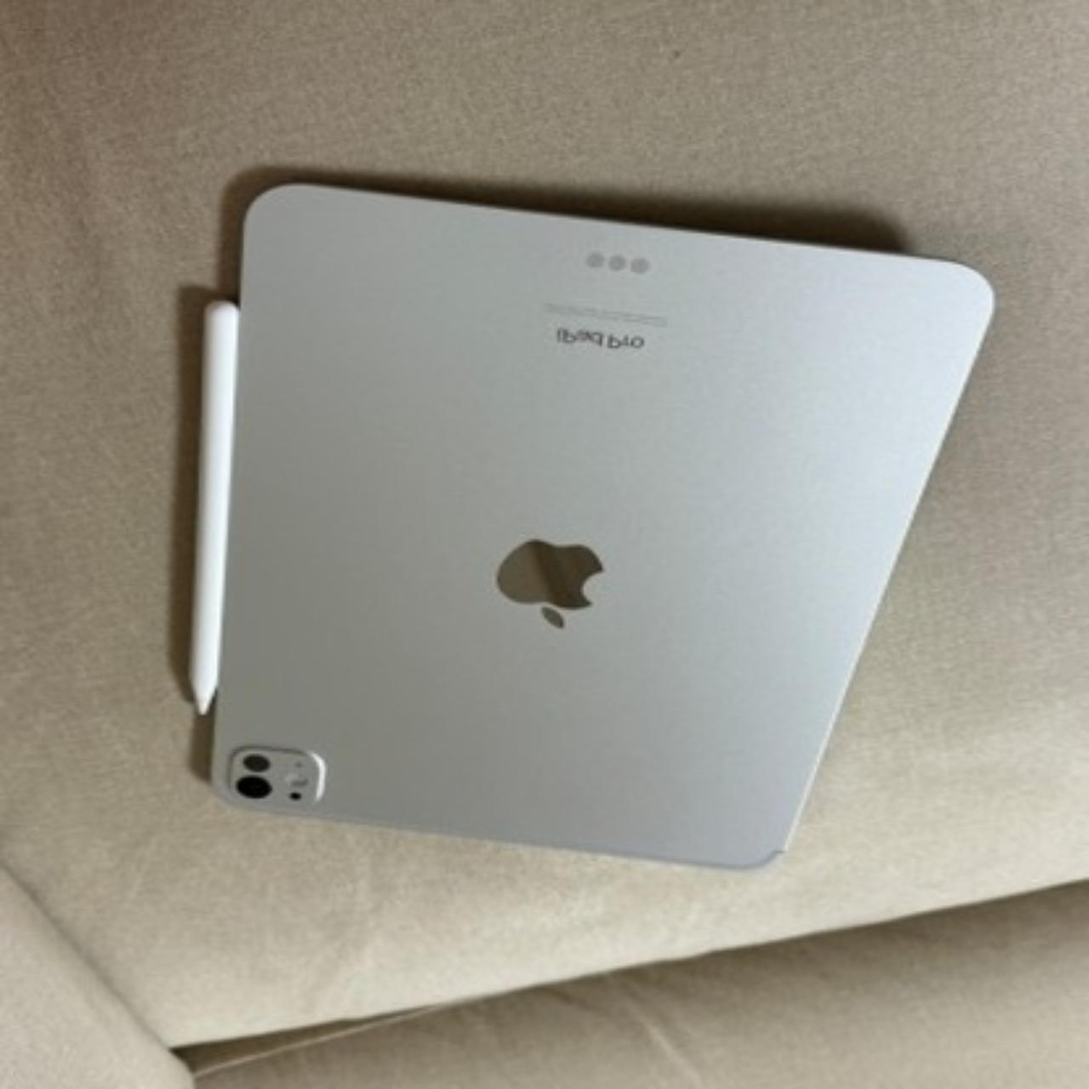Tablet_PC: (152, 189, 1013, 880)
